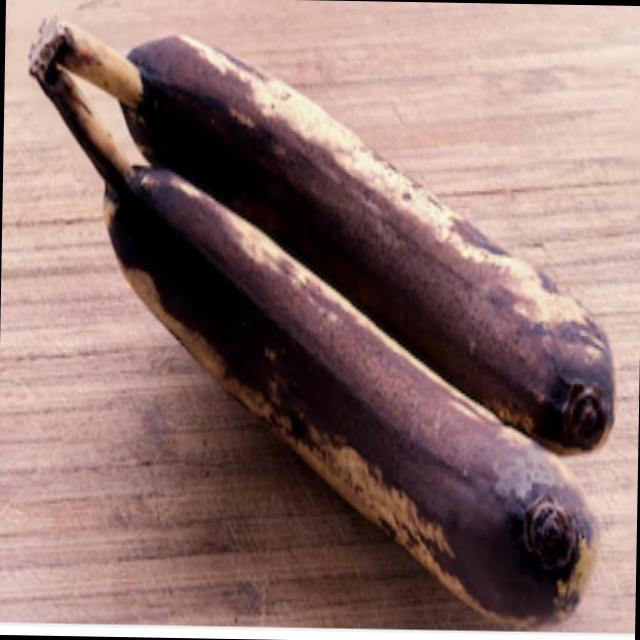rotten-banana: (110, 0, 640, 434), (102, 171, 592, 583)
